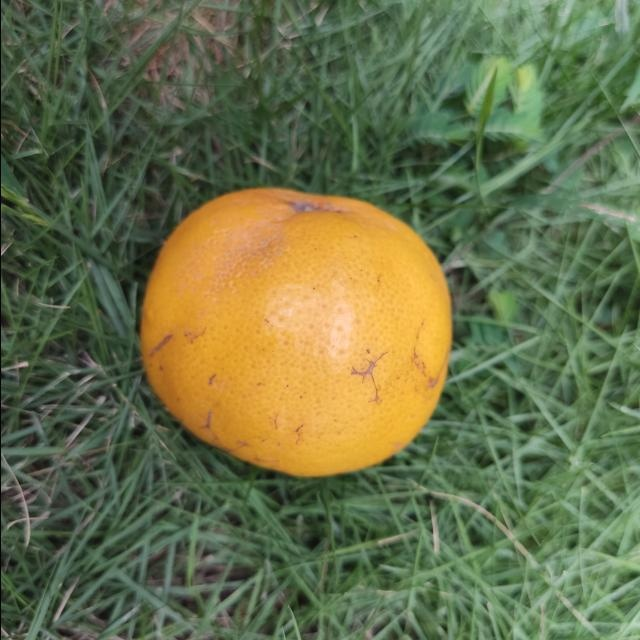agrume: (135, 184, 453, 480)
